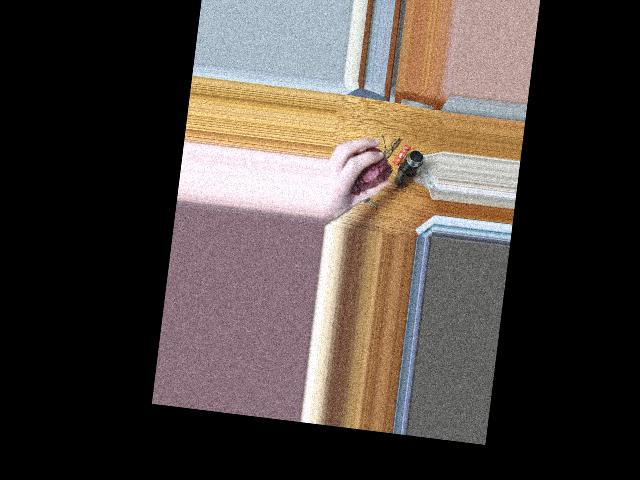onion: (348, 145, 391, 201)
